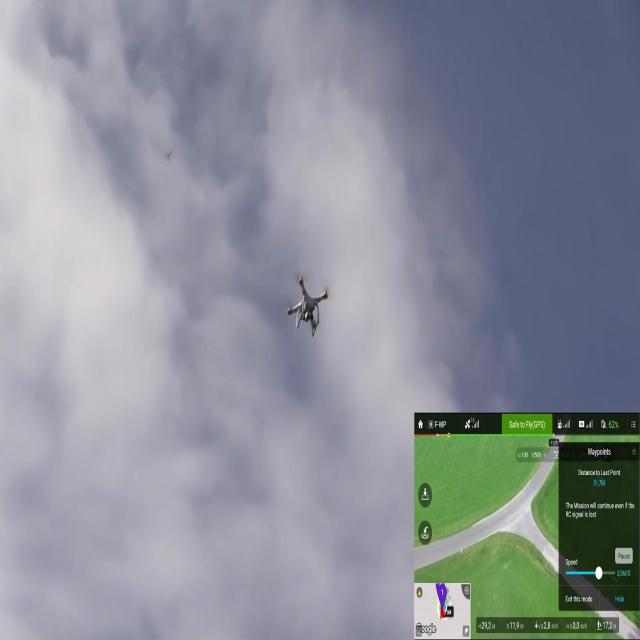drone: (284, 271, 330, 341)
